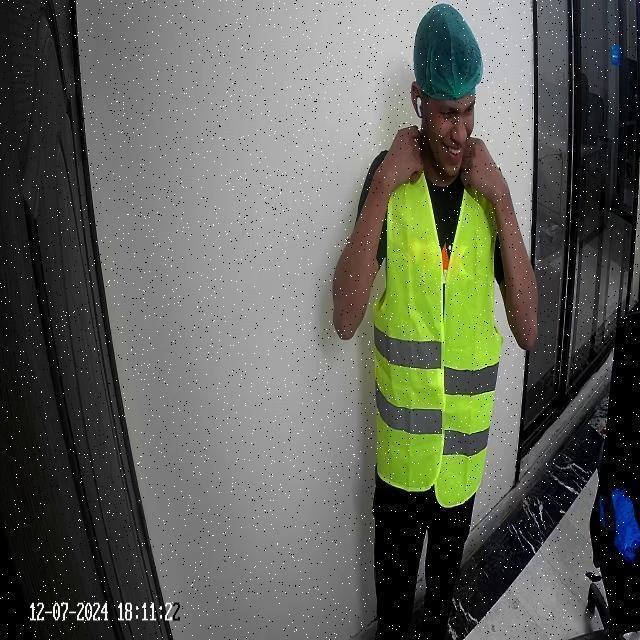gloves: (413, 6, 488, 93)
no_apron: (464, 126, 512, 213), (374, 119, 424, 194)
no_hairnet: (428, 122, 476, 177)
